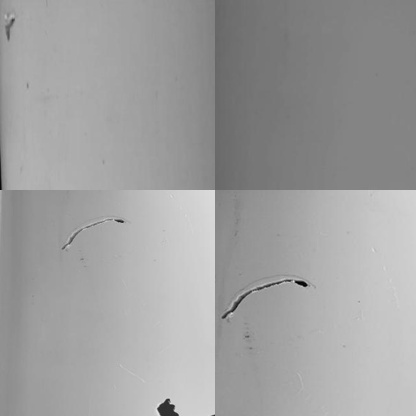fengxi: (222, 273, 316, 320), (61, 209, 131, 252)
kongdong: (151, 394, 184, 416)
sunshang: (3, 15, 18, 43)
